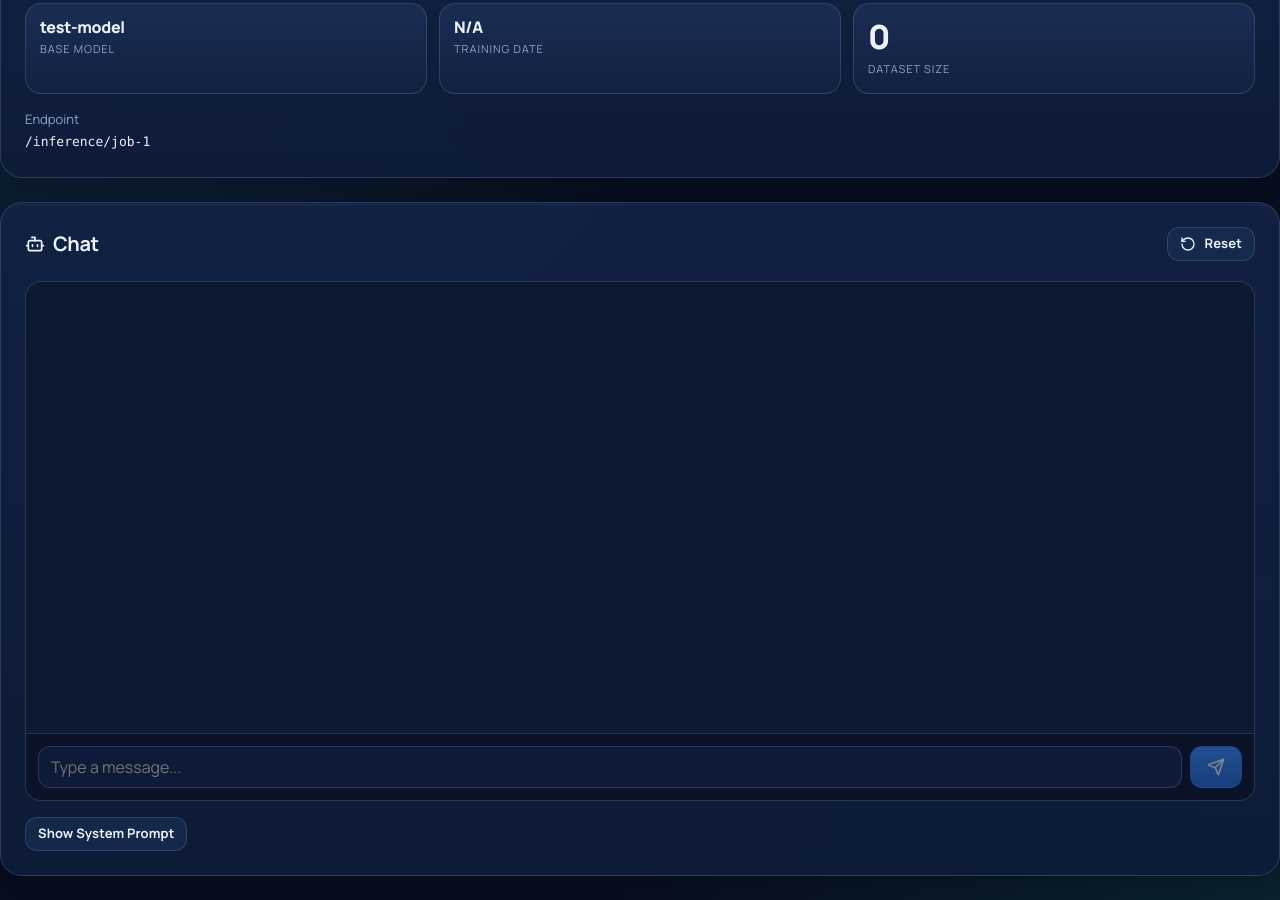
Test: SimulatorPanel Component › allows sending a message and displays response
(page scrolled)
Type "Hello" into the field with placeholder "Type a message...".
click(610, 767); type("Hello")  # box [38,746,1182,788]
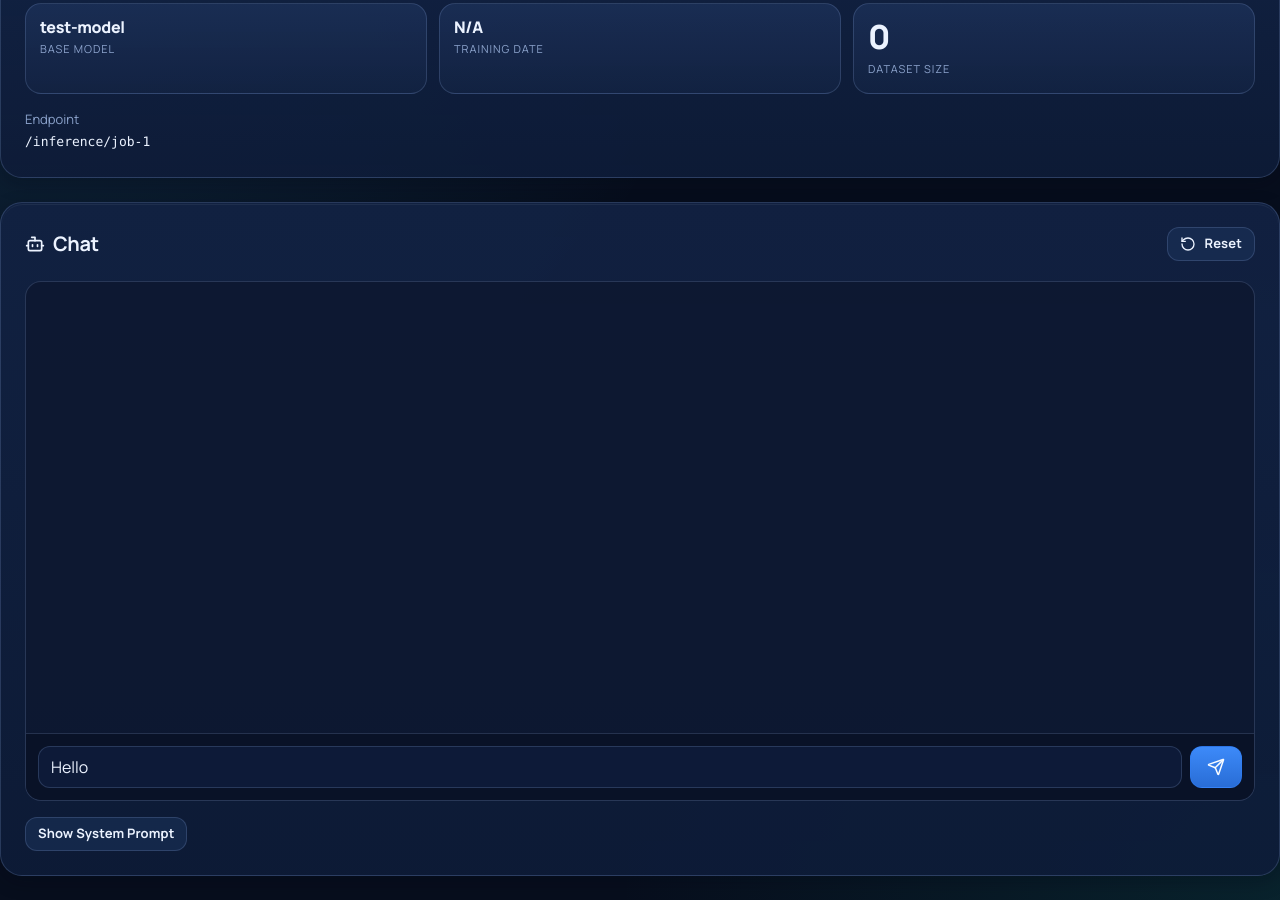
Click the button named "Send message".
click(1216, 767)  # box [1190,746,1242,788]
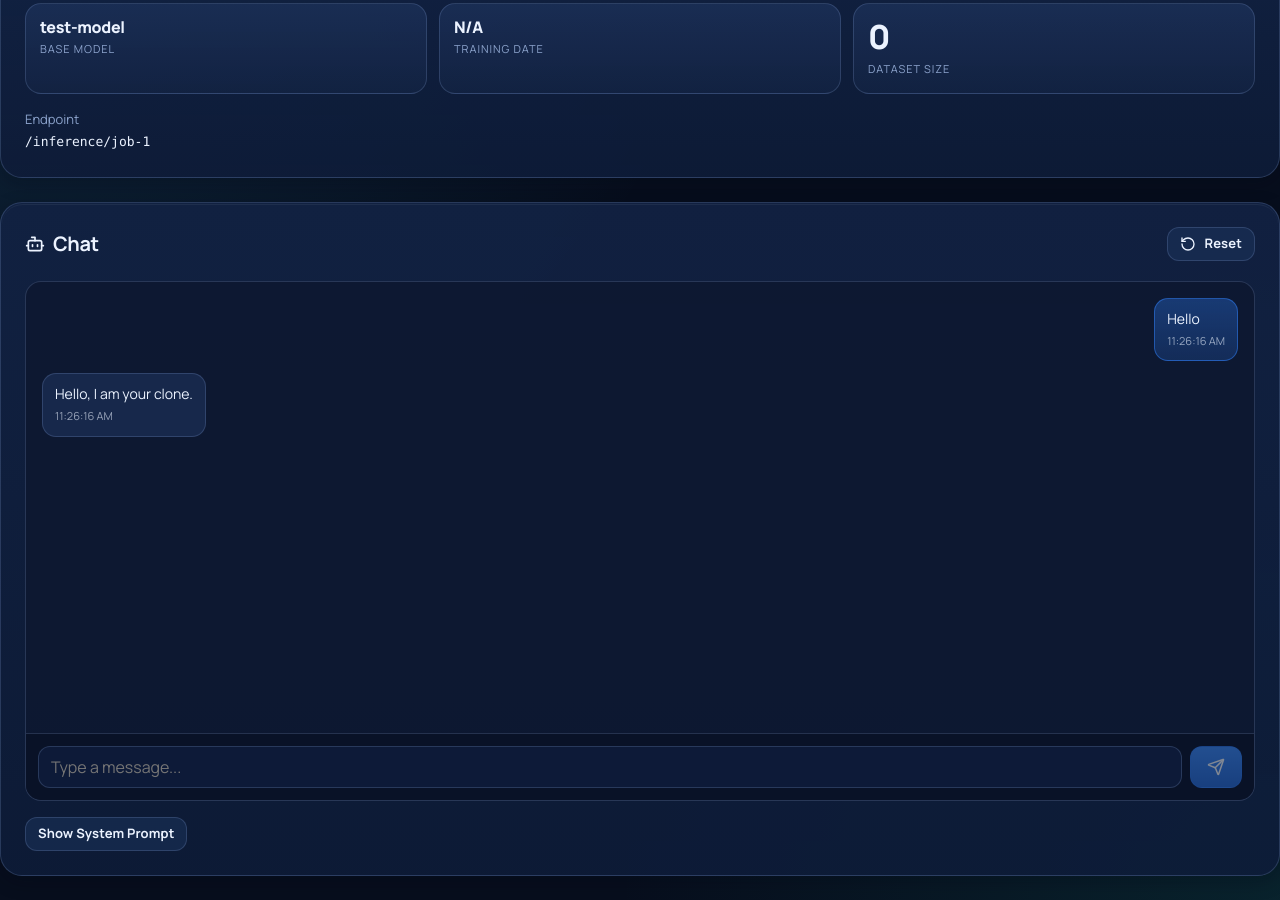
Now the text "Hello" is shown, box [1167,310,1200,329]
Now the text "Hello, I am your clone." is shown, box [55,384,193,405]
